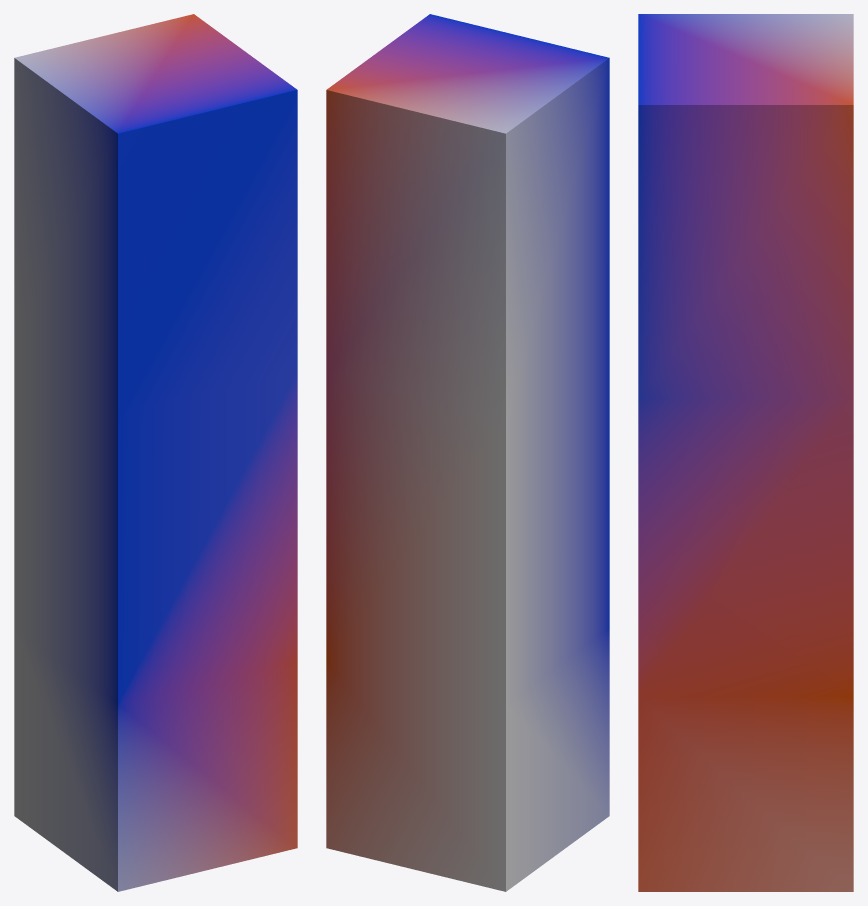
Rendered from VertexTest.fbx.
The picture shows the model from 3 angles, left to right: view 1: azimuth 30°, elevation 25°; view 2: azimuth 150°, elevation 25°; view 3: azimuth 270°, elevation 25°; orthographic projection. The views are drawn at different scales.
Visible parts, largest first — view 1: Cube; view 2: Cube; view 3: Cube.
Boxes of the visible parts, box(x1,y1,x2,y2) form: Cube: box(14, 14, 297, 891); Cube: box(326, 14, 609, 891); Cube: box(638, 14, 853, 891).
Size of the model in its own units: 200 by 807 by 200.
